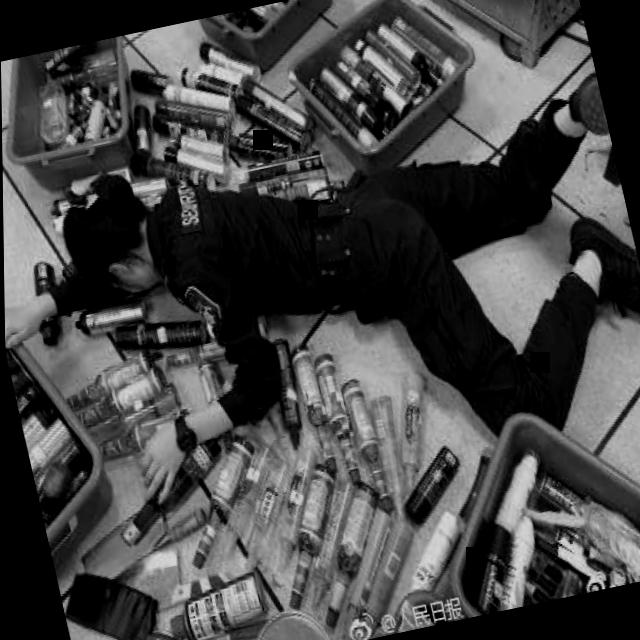Fall-Detected: (0, 32, 640, 536)
